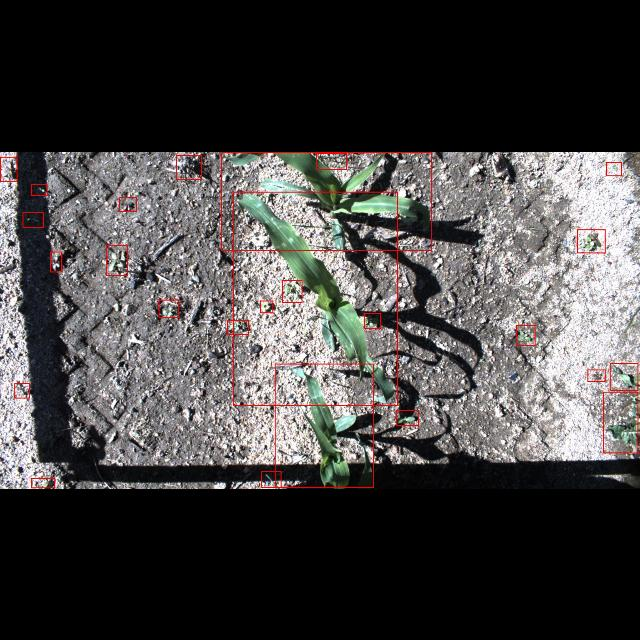crop: (233, 191, 397, 405), (222, 152, 432, 250), (275, 363, 373, 487)
weed: (604, 392, 638, 452), (610, 362, 638, 390), (577, 228, 605, 252), (106, 245, 128, 275), (176, 154, 202, 178), (316, 152, 346, 168), (282, 280, 302, 302), (1, 156, 18, 180), (516, 325, 536, 345), (159, 299, 179, 317), (396, 410, 418, 426), (261, 471, 281, 487), (228, 320, 248, 334), (23, 212, 43, 226), (364, 312, 381, 328), (15, 382, 30, 398), (120, 197, 136, 211), (606, 161, 622, 175), (50, 251, 61, 271), (32, 478, 54, 488), (588, 370, 604, 380), (32, 183, 46, 194), (261, 300, 273, 312)
